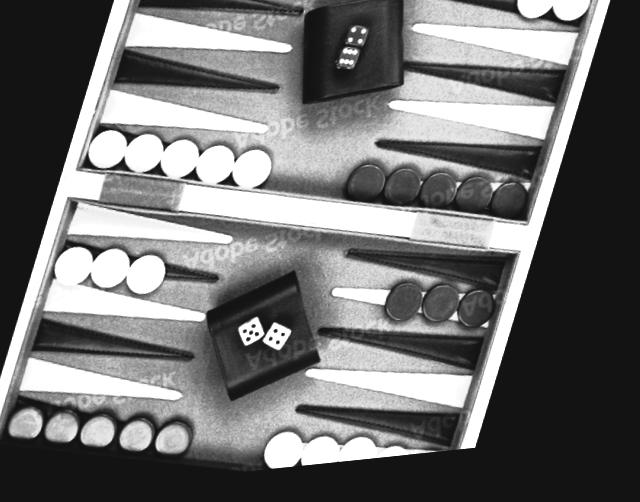bar: (75, 134, 532, 302)
board: (0, 0, 601, 499)
dark_p: (43, 400, 100, 459), (457, 289, 511, 347), (6, 397, 61, 453), (155, 417, 210, 472), (81, 405, 134, 462), (423, 286, 476, 341), (383, 284, 436, 337), (119, 411, 170, 466), (419, 172, 470, 224), (343, 166, 394, 216), (383, 169, 433, 220), (490, 185, 539, 236), (456, 179, 503, 230)
dice: (237, 315, 277, 359), (265, 323, 303, 363), (329, 47, 367, 86), (342, 28, 374, 59)
light_p: (190, 139, 245, 198), (227, 144, 282, 202), (124, 249, 177, 305), (53, 240, 106, 294), (157, 133, 209, 188), (83, 124, 136, 177), (89, 243, 140, 298), (121, 130, 173, 182), (266, 432, 318, 477), (546, 0, 595, 42), (509, 0, 558, 38), (306, 438, 355, 474), (342, 438, 392, 471), (379, 450, 424, 468)
